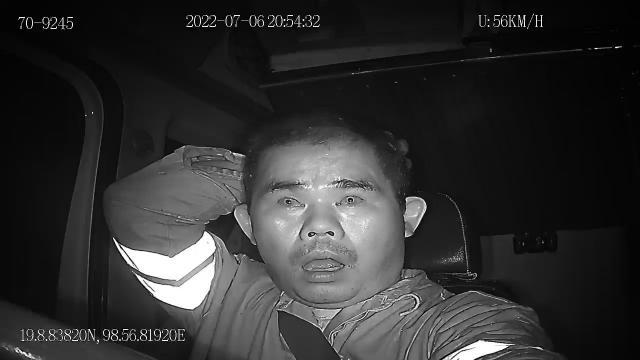SafeDriving: (328, 185, 372, 214), (271, 187, 312, 214)
Seatbelt: (276, 308, 344, 360)
